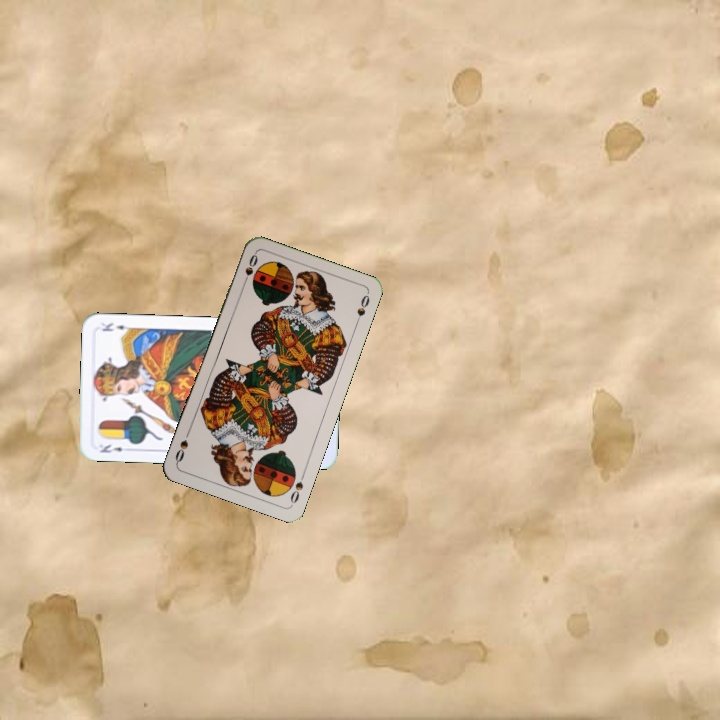EK: (96, 440, 125, 455)
SO: (238, 250, 260, 289), (286, 468, 308, 506)
